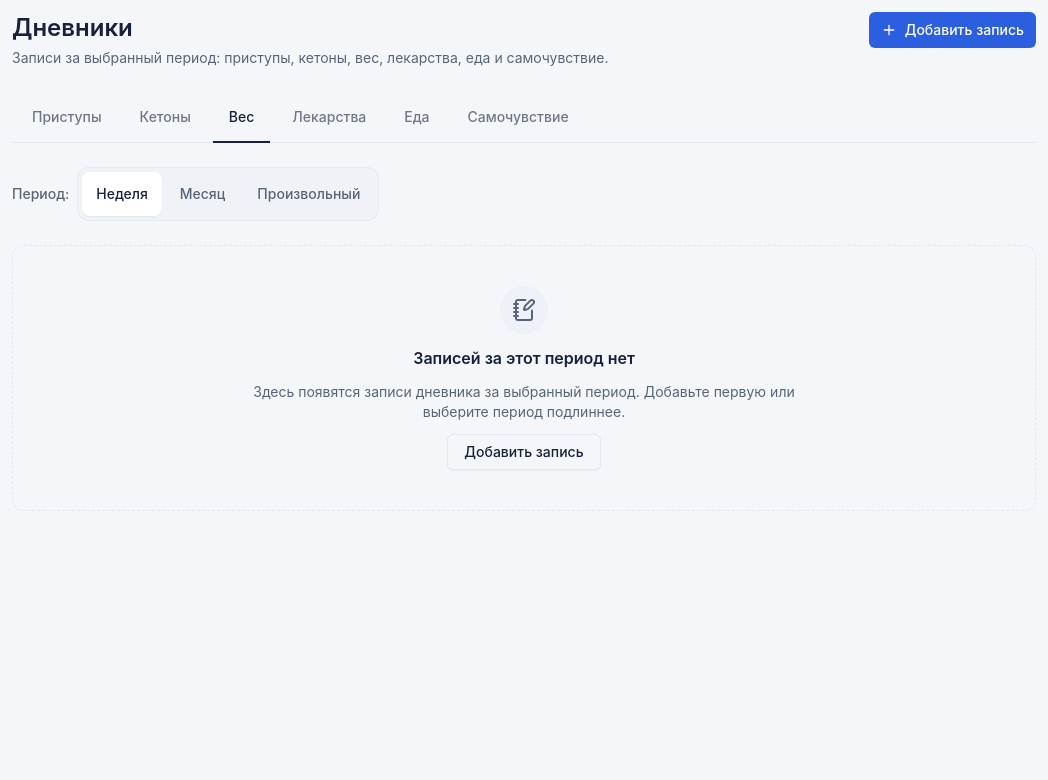
состояния, которые не врут › неверный период — не «записей за этот период нет»
Click the radio button labelled "Произвольный" at (309, 194), box [257,185,360,202]
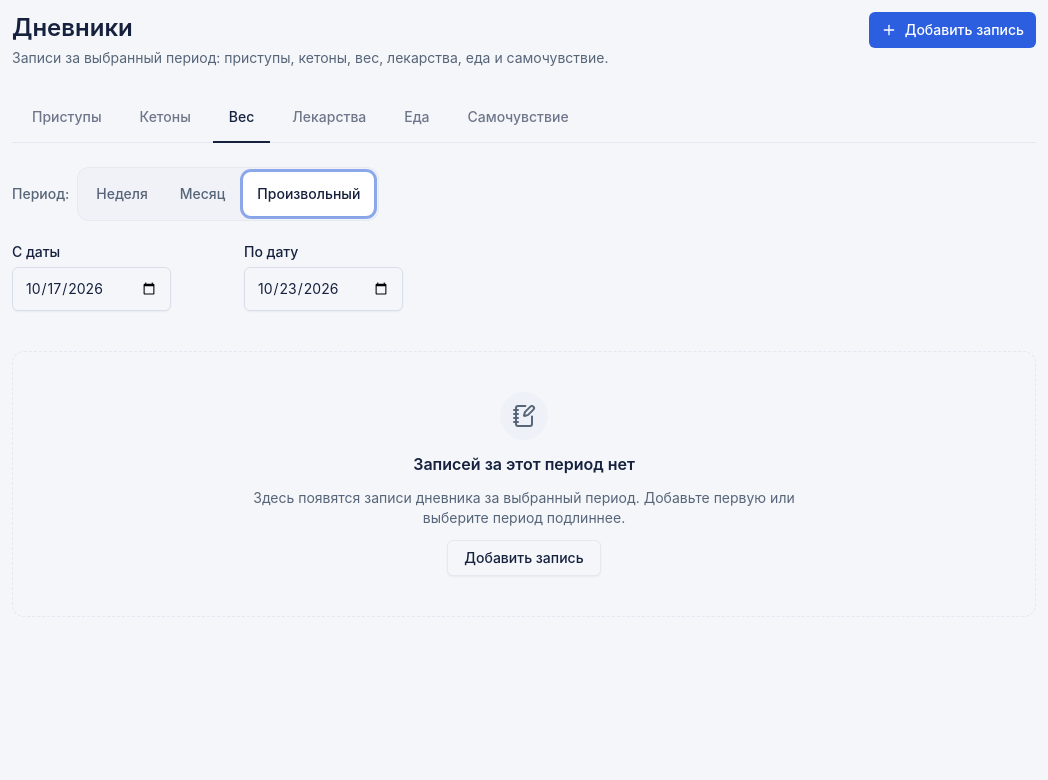
Clear the date field labelled "С даты" at (92, 289), box [12,267,171,311]
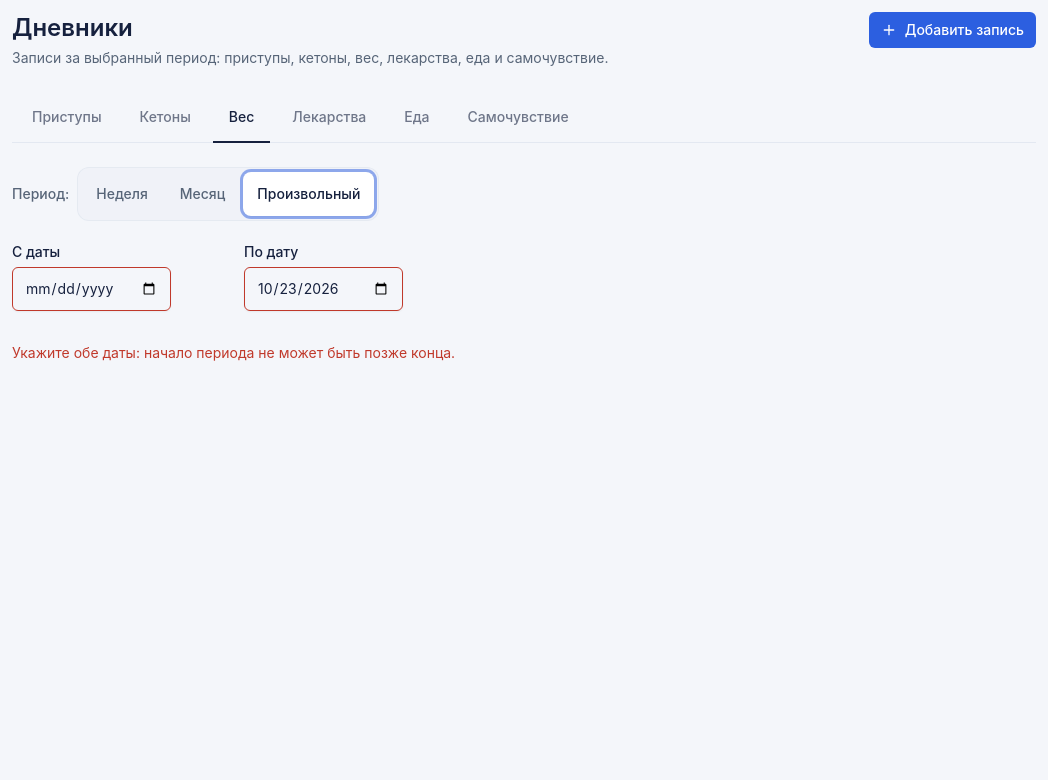
Check: the text "Укажите обе даты: начало периода не может быть позже конца." is shown, box [12,344,455,361]
Check: the text "Записей за этот период нет" is gone
